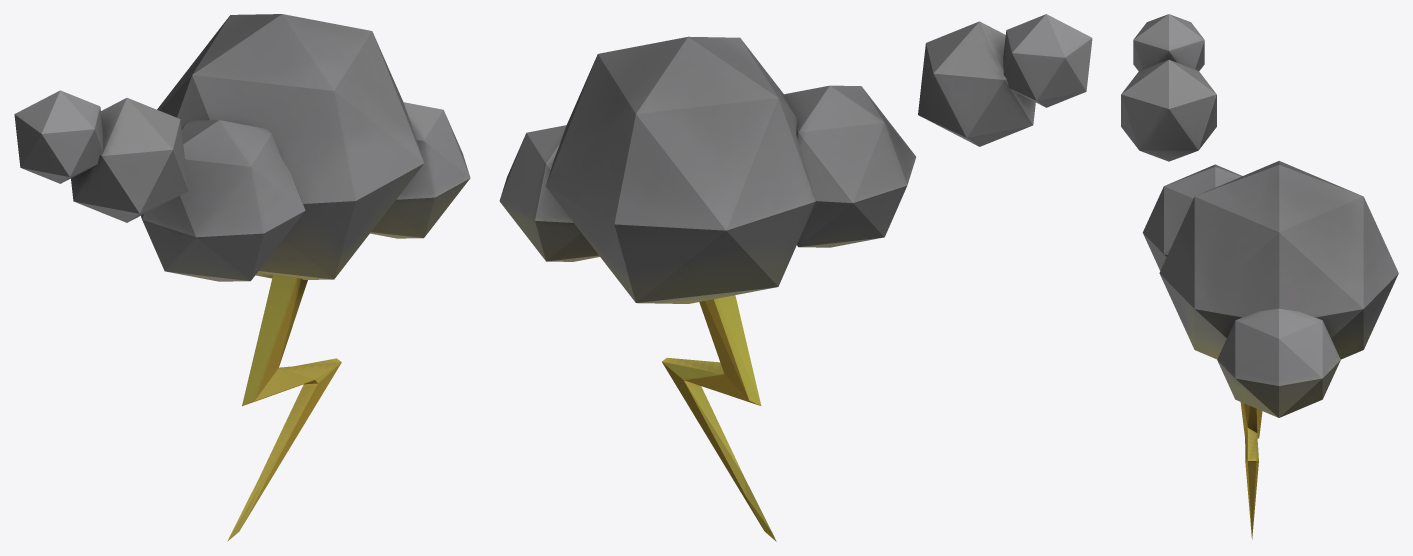
Rendered from Cloud_13.fbx.
3 views of the same model, side by side, from view 1: azimuth 30°, elevation 25°; view 2: azimuth 150°, elevation 25°; view 3: azimuth 270°, elevation 25° (orthographic). The views are drawn at different scales.
Parts seen in each view (by area): view 1: Cloud_13; view 2: Cloud_13; view 3: Cloud_13.
Boxes of the visible parts, bbox=[...] form: Cloud_13: bbox=[14, 14, 470, 541]; Cloud_13: bbox=[499, 14, 1092, 541]; Cloud_13: bbox=[1121, 14, 1398, 539].
Size of the model in its own units: 89.6 by 90.99 by 51.89.
